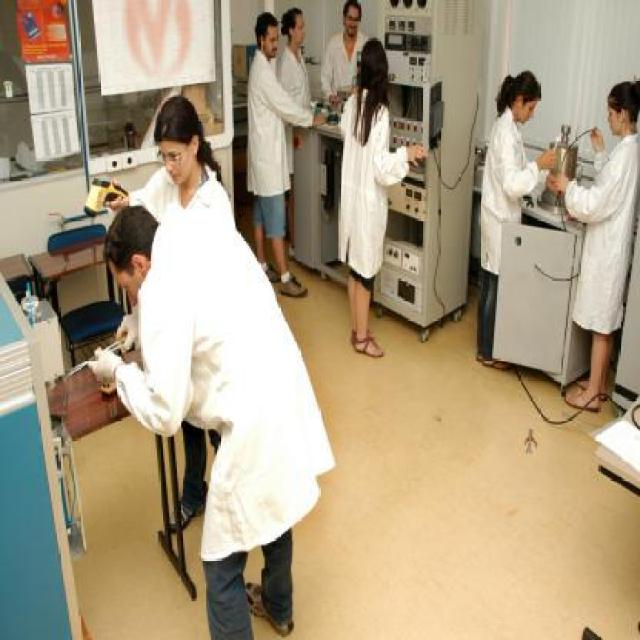sem_oculos: (146, 138, 206, 166), (108, 274, 148, 292), (599, 108, 628, 126), (259, 34, 285, 49), (522, 96, 538, 117), (290, 23, 313, 35), (346, 10, 366, 22)
